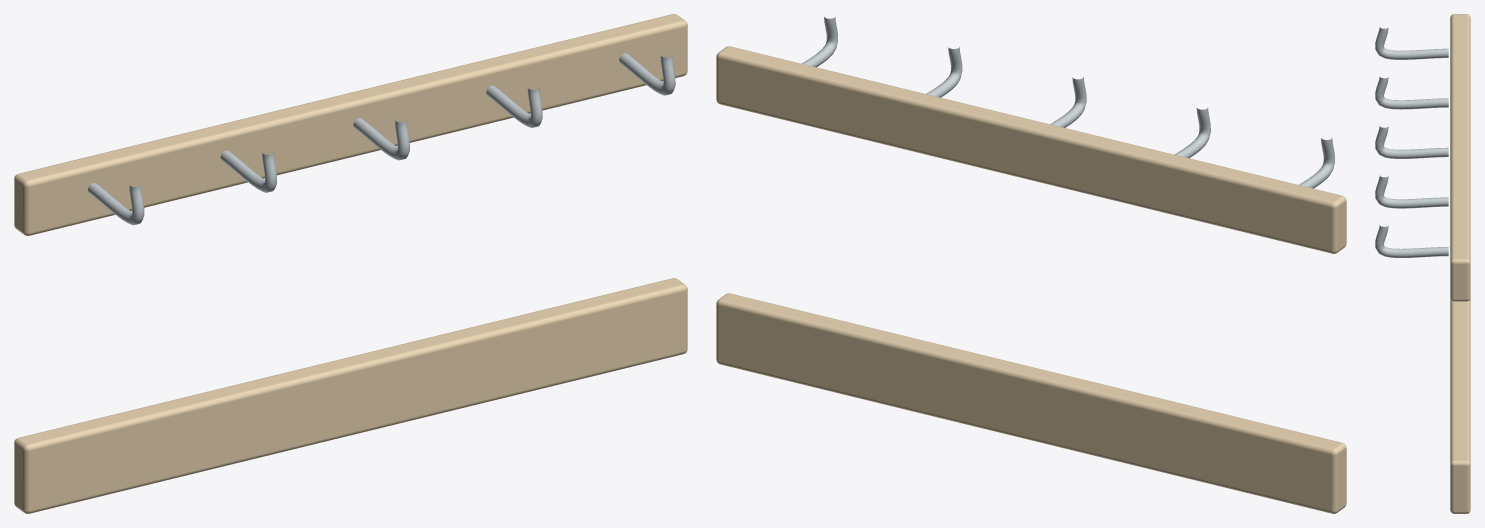
File: squash-club-and-racket-workshop-racket-wall-rack-84206f2e__29754.glb
The picture shows the model from 3 angles, left to right: view 1: azimuth 30°, elevation 25°; view 2: azimuth 150°, elevation 25°; view 3: azimuth 270°, elevation 25°; orthographic projection. The views are drawn at different scales.
Visible parts, largest first — view 1: racket-wall-rack; view 2: racket-wall-rack; view 3: racket-wall-rack.
Part boxes in pixels (x1,y1,x2,y2): racket-wall-rack: (14, 14, 687, 513); racket-wall-rack: (716, 16, 1346, 513); racket-wall-rack: (1375, 14, 1470, 513).
Size of the model in its own units: 1 by 0.5 by 0.1629.
